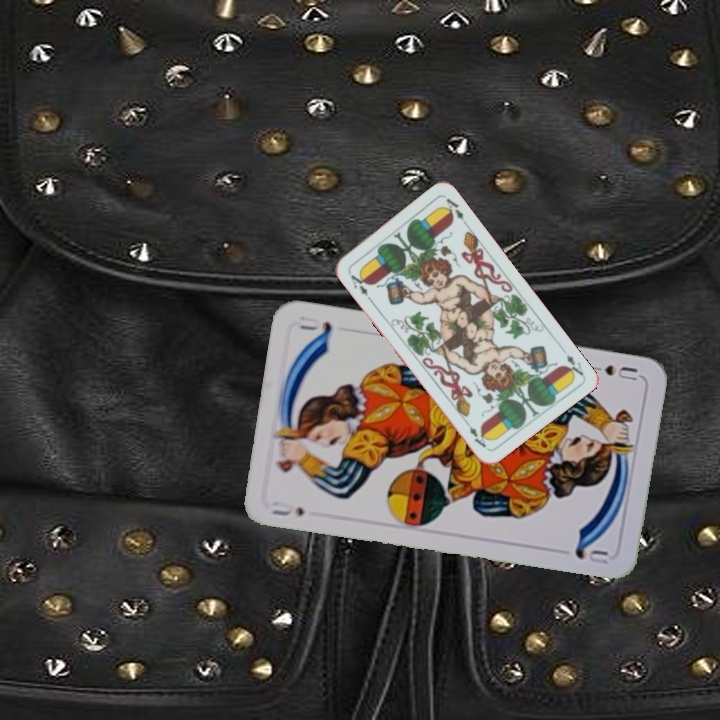EA: (346, 269, 373, 303), (562, 350, 586, 381)
SU: (583, 360, 640, 384), (267, 497, 307, 519)
